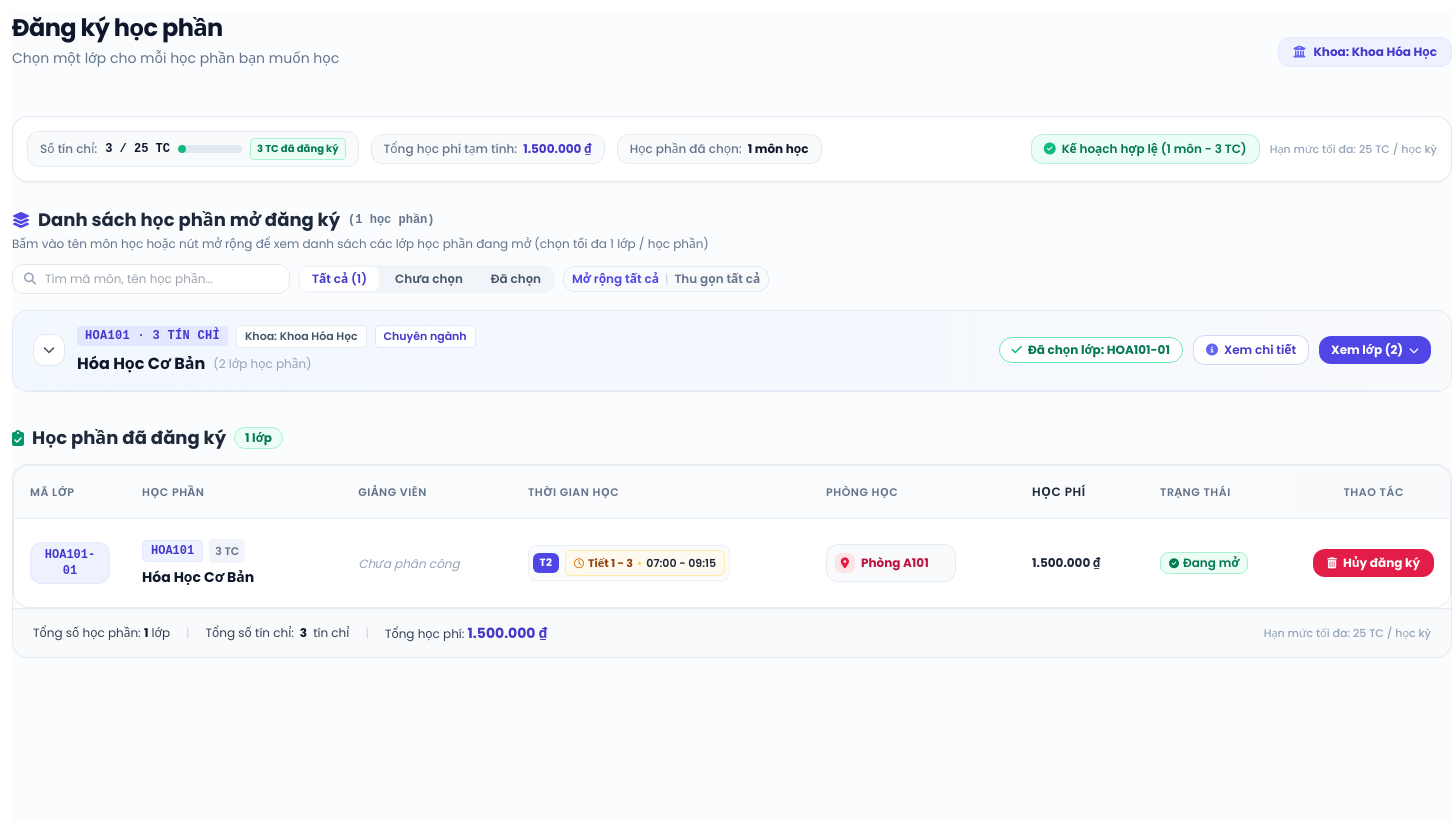
Scenario: StudentCourseRegistration Exclusive Class Selection & Credit Limit Validation › enforces Exclusive Class Selection: locks other classes in the same course when a class is already selected
Check: the text "Đã chọn lớp: HOA101-01" is shown, box [998,337,1183,363]
Note: Expand course accordion
Step 1. Click the text "Hóa Học Cơ Bản" → (141, 364), box [77,352,205,376]
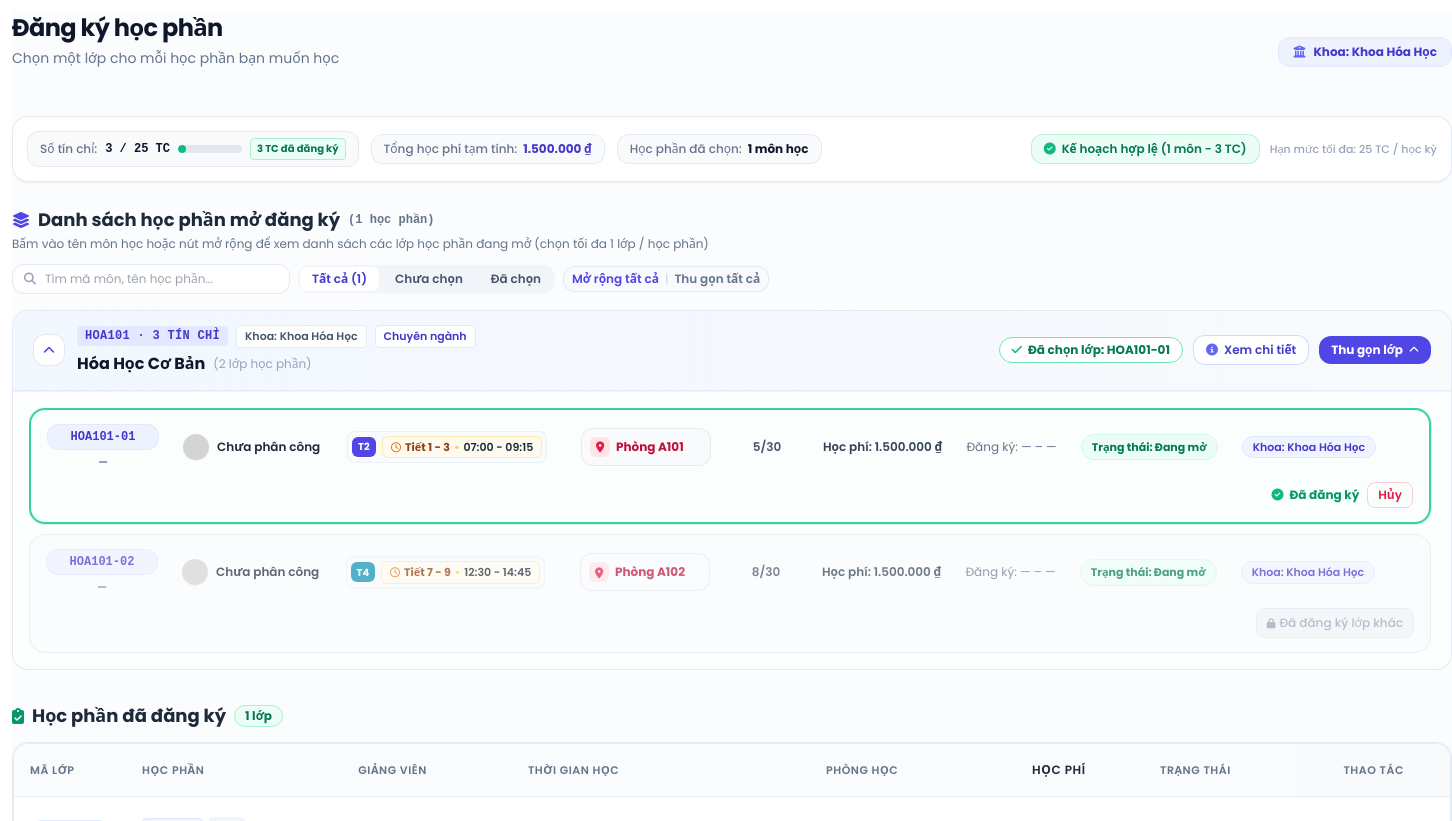
Check: the text "3 TC đã đăng ký" is shown, box [250,138,346,160]
Check: the text "HOA101-02" is shown, box [46,549,158,575]
Check: the text "Đã đăng ký lớp khác" is shown, box [1256,608,1414,638]
